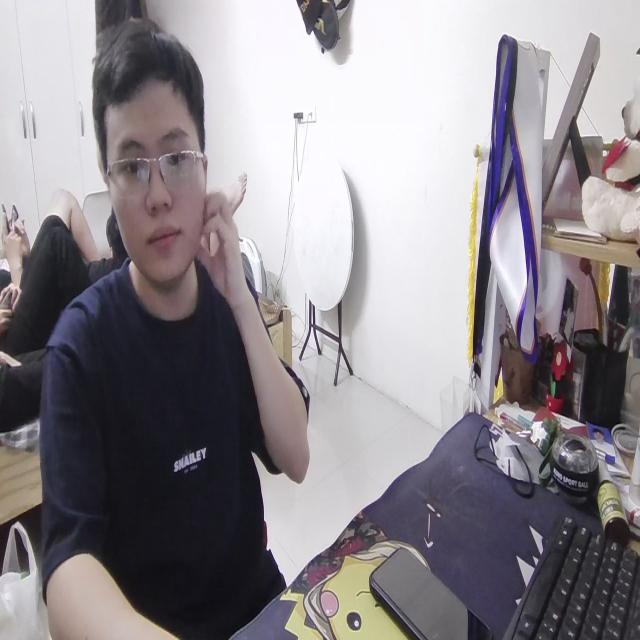extra_person: (0, 189, 99, 425)
phone: (368, 539, 490, 640)
student: (41, 31, 306, 640)
